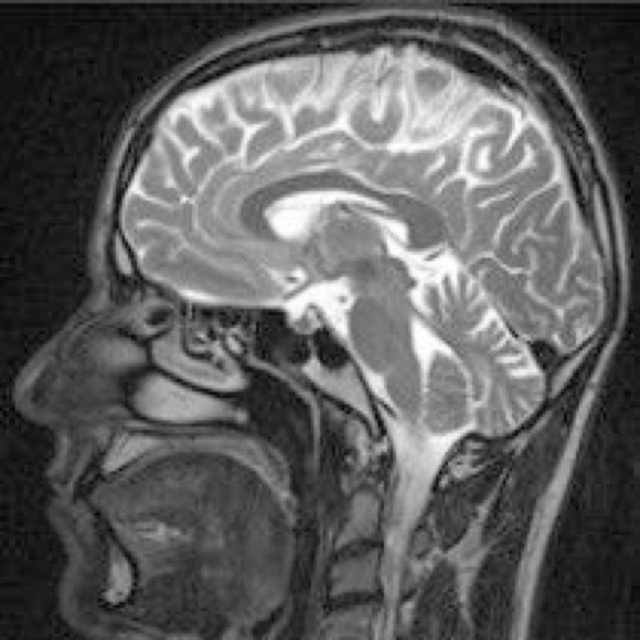glioma tumor: (177, 86, 567, 452)
